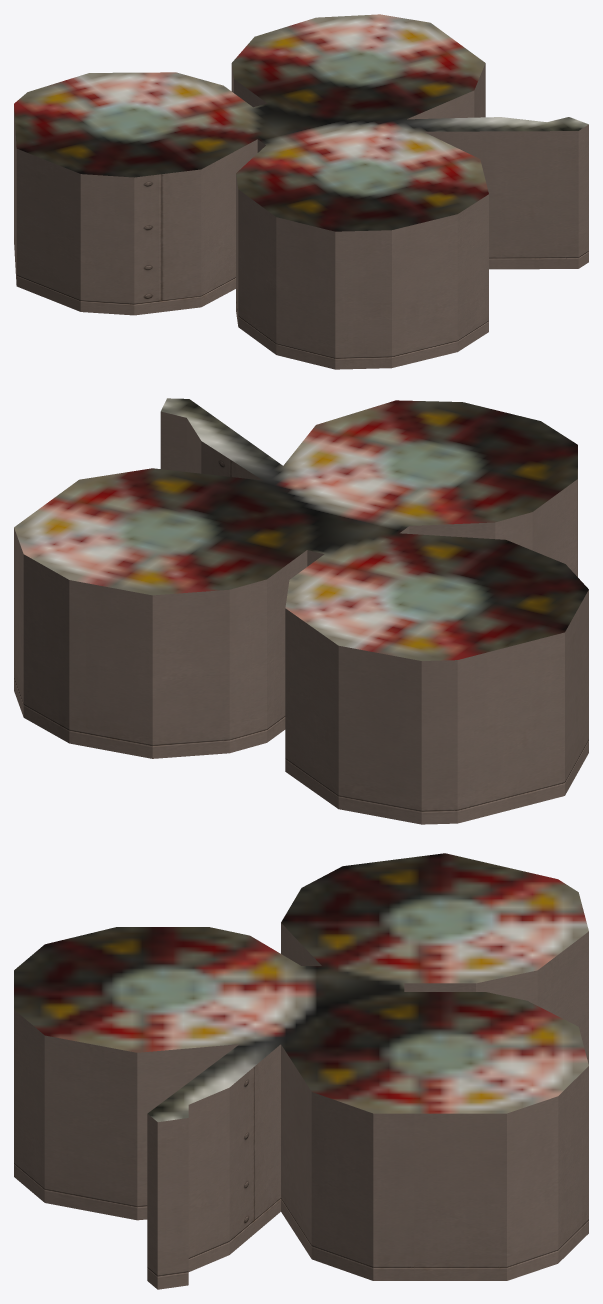
The model's file is fuel_tank_hard_04.glb.
The picture shows the model from 3 angles, top to bottom: view 1: azimuth 30°, elevation 25°; view 2: azimuth 150°, elevation 25°; view 3: azimuth 270°, elevation 25°; orthographic projection. The views are drawn at different scales.
Parts seen in each view (by area): view 1: buildings/saxarba/fuel_tanks/fuel_tank_hard_04; view 2: buildings/saxarba/fuel_tanks/fuel_tank_hard_04; view 3: buildings/saxarba/fuel_tanks/fuel_tank_hard_04.
Part boxes in pixels (left/top/right/bottom): buildings/saxarba/fuel_tanks/fuel_tank_hard_04: left=14, top=14, right=588, bottom=369; buildings/saxarba/fuel_tanks/fuel_tank_hard_04: left=14, top=398, right=588, bottom=824; buildings/saxarba/fuel_tanks/fuel_tank_hard_04: left=14, top=853, right=588, bottom=1289.
Size of the model in its own units: 62 by 18 by 56.
